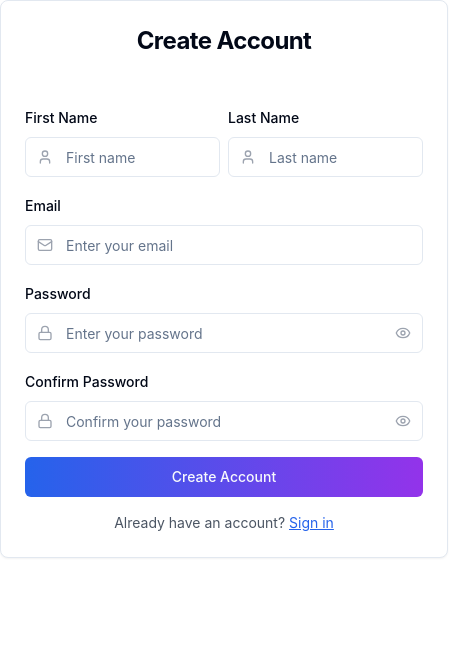
Test: RegisterForm › validates password length
Type "John" into the field labelled "First Name".
click(122, 157); type("John")  # box [25,137,220,177]
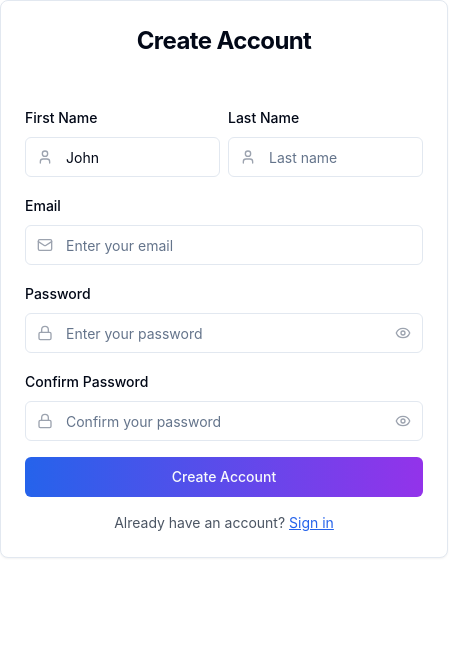
Type "Doe" into the field labelled "Last Name".
click(326, 157); type("Doe")  # box [228,137,423,177]
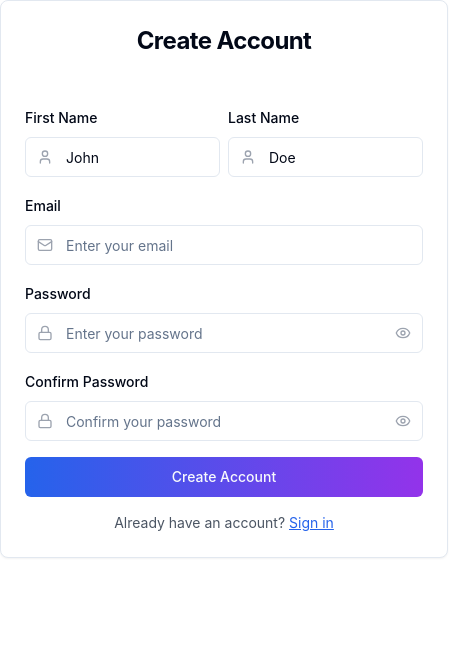
Type "test@example.com" into the field labelled "Email".
click(224, 245); type("test@example.com")  # box [25,225,423,265]
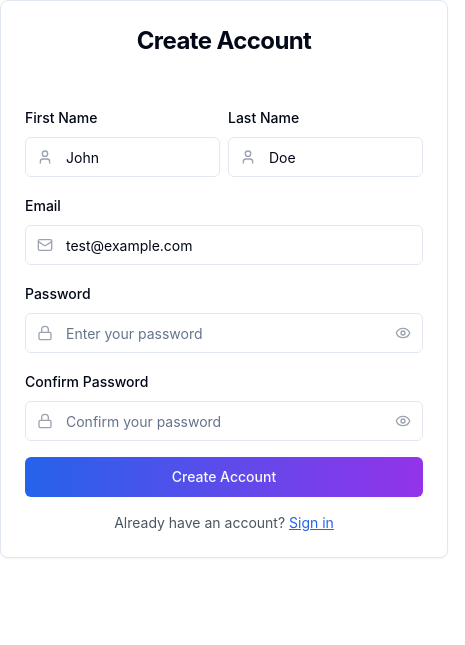
Type "12345" into the password field labelled "Password".
click(224, 333); type("12345")  # box [25,313,423,353]
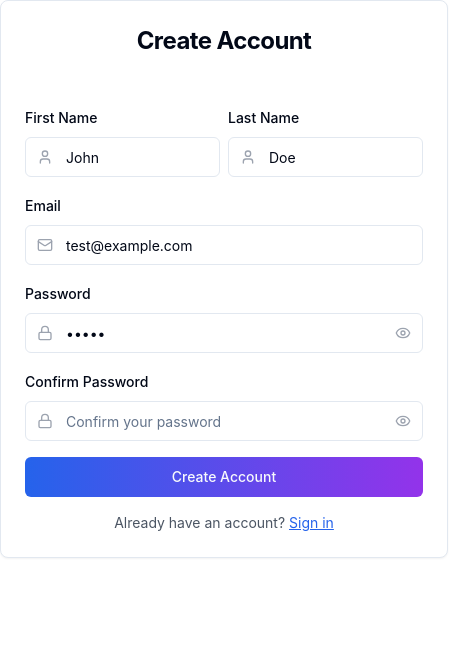
Type "12345" into the password field labelled "Confirm Password".
click(224, 421); type("12345")  # box [25,401,423,441]
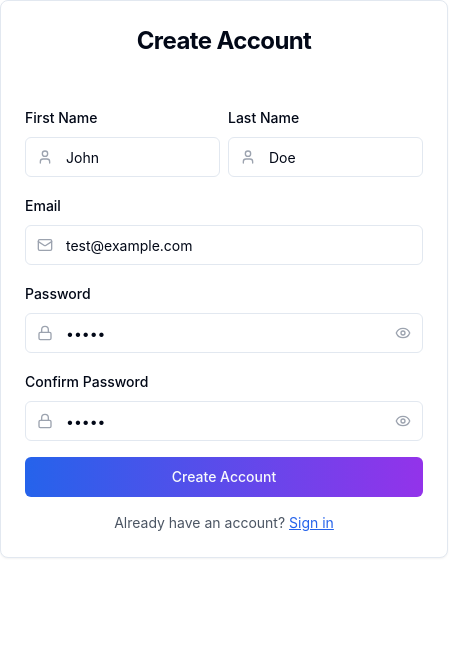
Submit the form "Create Account", box [25,105,423,497]
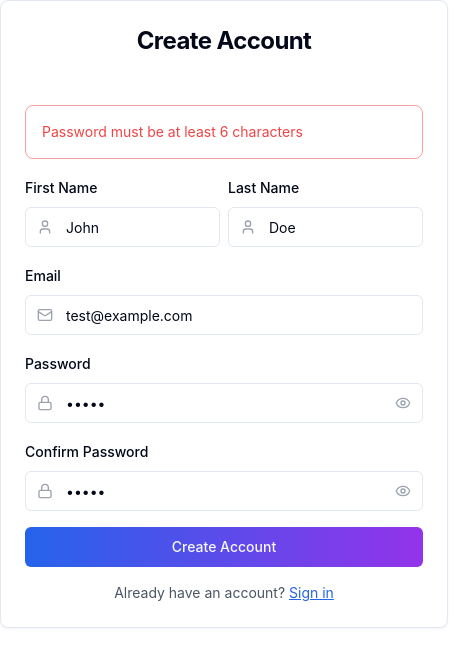
expect the text "Password must be at least 6 characters" is shown: met, box [42,123,303,140]
